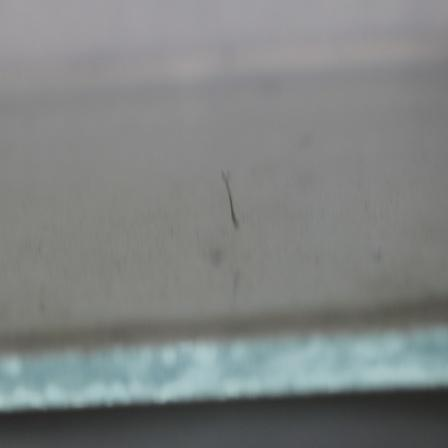Jentik-Nyamuk: (217, 163, 242, 233)
